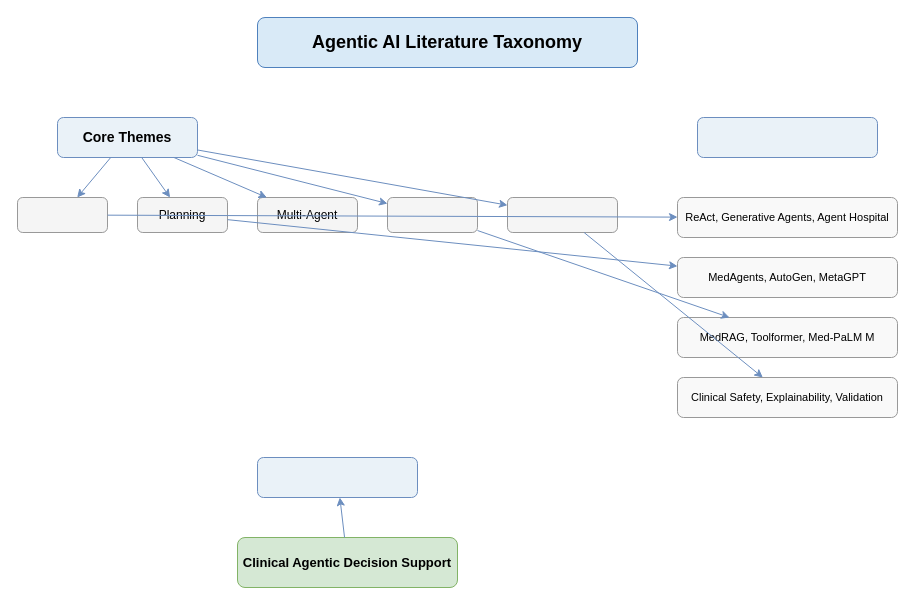
The diagram is 915 pixels wide and 605 high, and some of its shapes have lost their labels. The shapes that lost their labels are listed below. From the top down, each one's centre as x and y in pixels, then its label:
At point (787, 137): "Representative Papers".
At point (62, 214): "Memory".
At point (432, 214): "RAG".
At point (562, 214): "Trustworthy AI".
At point (337, 477): "Thesis Focus".
